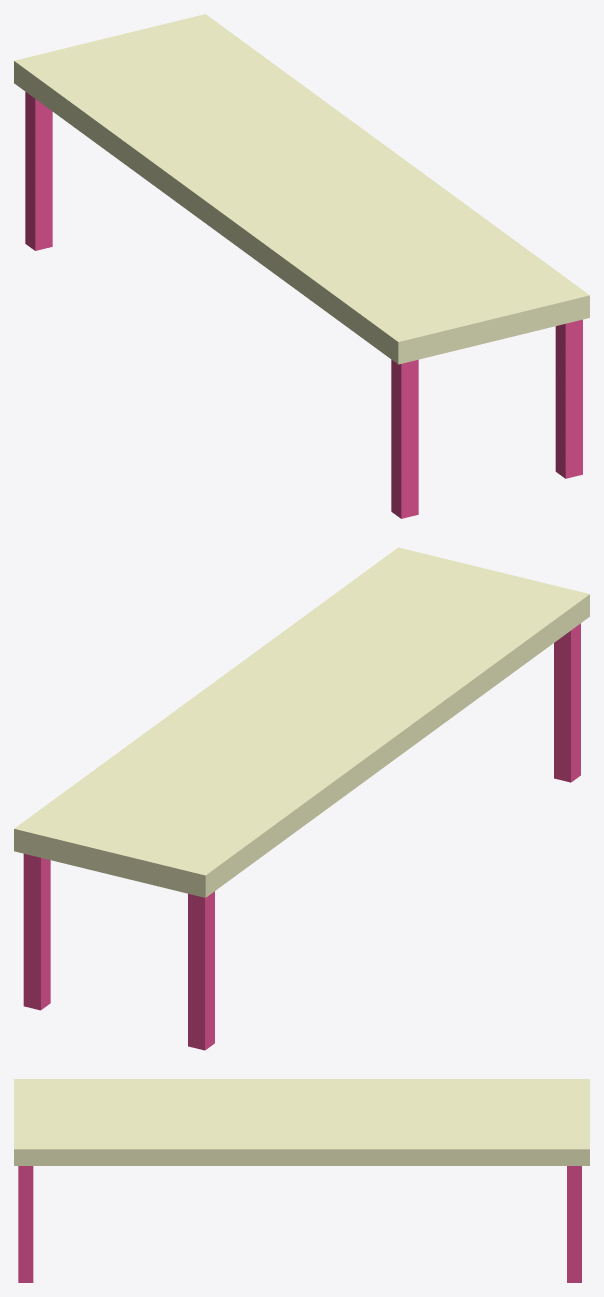
Rendered from Table_L.fbx.
3 views of the same model, one above another, from view 1: azimuth 30°, elevation 25°; view 2: azimuth 150°, elevation 25°; view 3: azimuth 270°, elevation 25° (orthographic). The views are drawn at different scales.
Visible parts, largest first — view 1: Table_L; view 2: Table_L; view 3: Table_L.
Part boxes in pixels (bbox=[...]): Table_L: bbox=[14, 14, 589, 518]; Table_L: bbox=[14, 547, 589, 1050]; Table_L: bbox=[14, 1079, 589, 1282].
Size of the model in its own units: 39.37 by 35.43 by 137.
